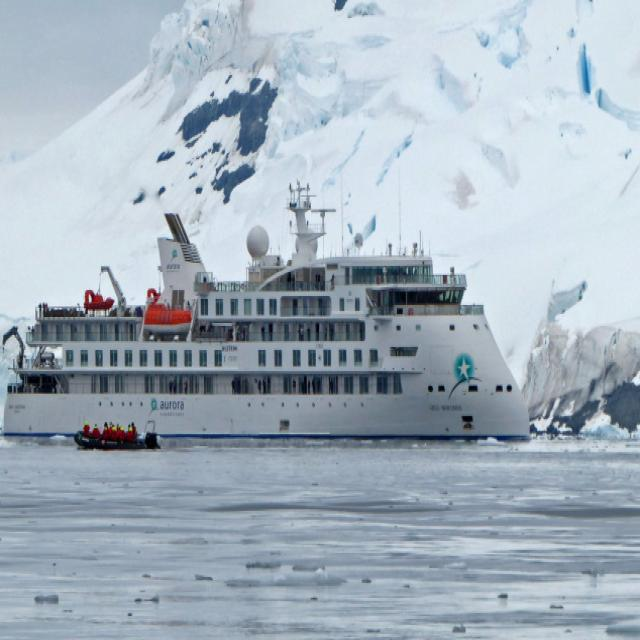cruises: (1, 174, 538, 449)
